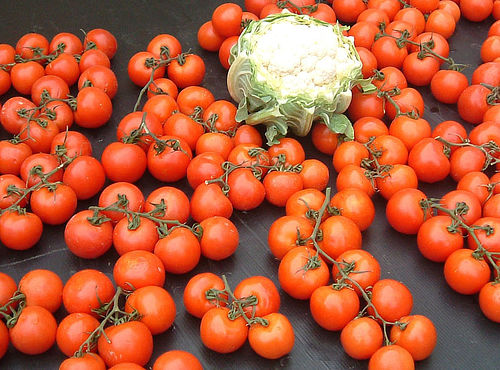cauliflower: (224, 8, 365, 138)
